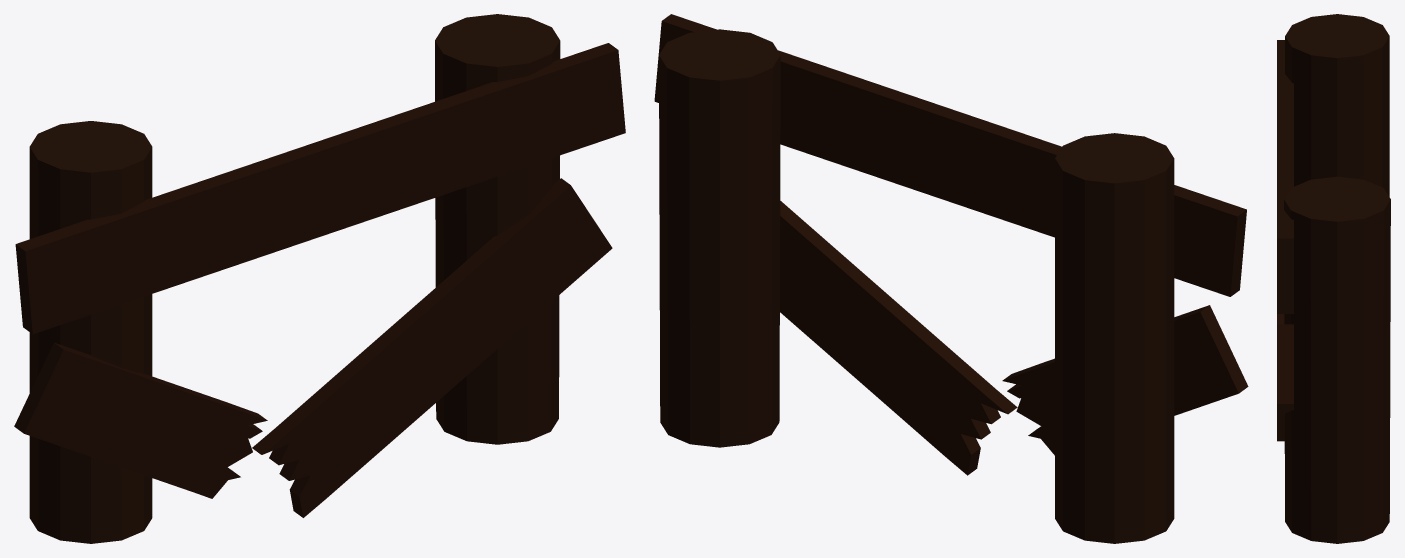
Rendered from Fence Broken.FBX.
3 views of the same model, side by side, from view 1: azimuth 30°, elevation 25°; view 2: azimuth 150°, elevation 25°; view 3: azimuth 270°, elevation 25° (orthographic). The views are drawn at different scales.
Parts seen in each view (by area): view 1: Box004, Object003, Cylinder002, Object002, Box003; view 2: Object002, Cylinder002, Box004, Object003, Box003; view 3: Object002, Cylinder002, Box004, Object003.
Boxes of the visible parts, left/top/right/bottom form: Box004: left=15, top=43, right=625, bottom=334; Object003: left=252, top=178, right=612, bottom=517; Cylinder002: left=29, top=121, right=152, bottom=543; Object002: left=435, top=14, right=560, bottom=444; Box003: left=14, top=342, right=267, bottom=498; Object002: left=659, top=29, right=780, bottom=447; Cylinder002: left=1055, top=133, right=1174, bottom=543; Box004: left=654, top=14, right=1246, bottom=296; Object003: left=780, top=201, right=1017, bottom=475; Box003: left=1002, top=305, right=1248, bottom=455; Object002: left=1284, top=176, right=1390, bottom=543; Cylinder002: left=1285, top=14, right=1389, bottom=196; Box004: left=1277, top=40, right=1293, bottom=313; Object003: left=1277, top=324, right=1293, bottom=441.
Size of the model in its own units: 30.37 by 19.08 by 5.83.
